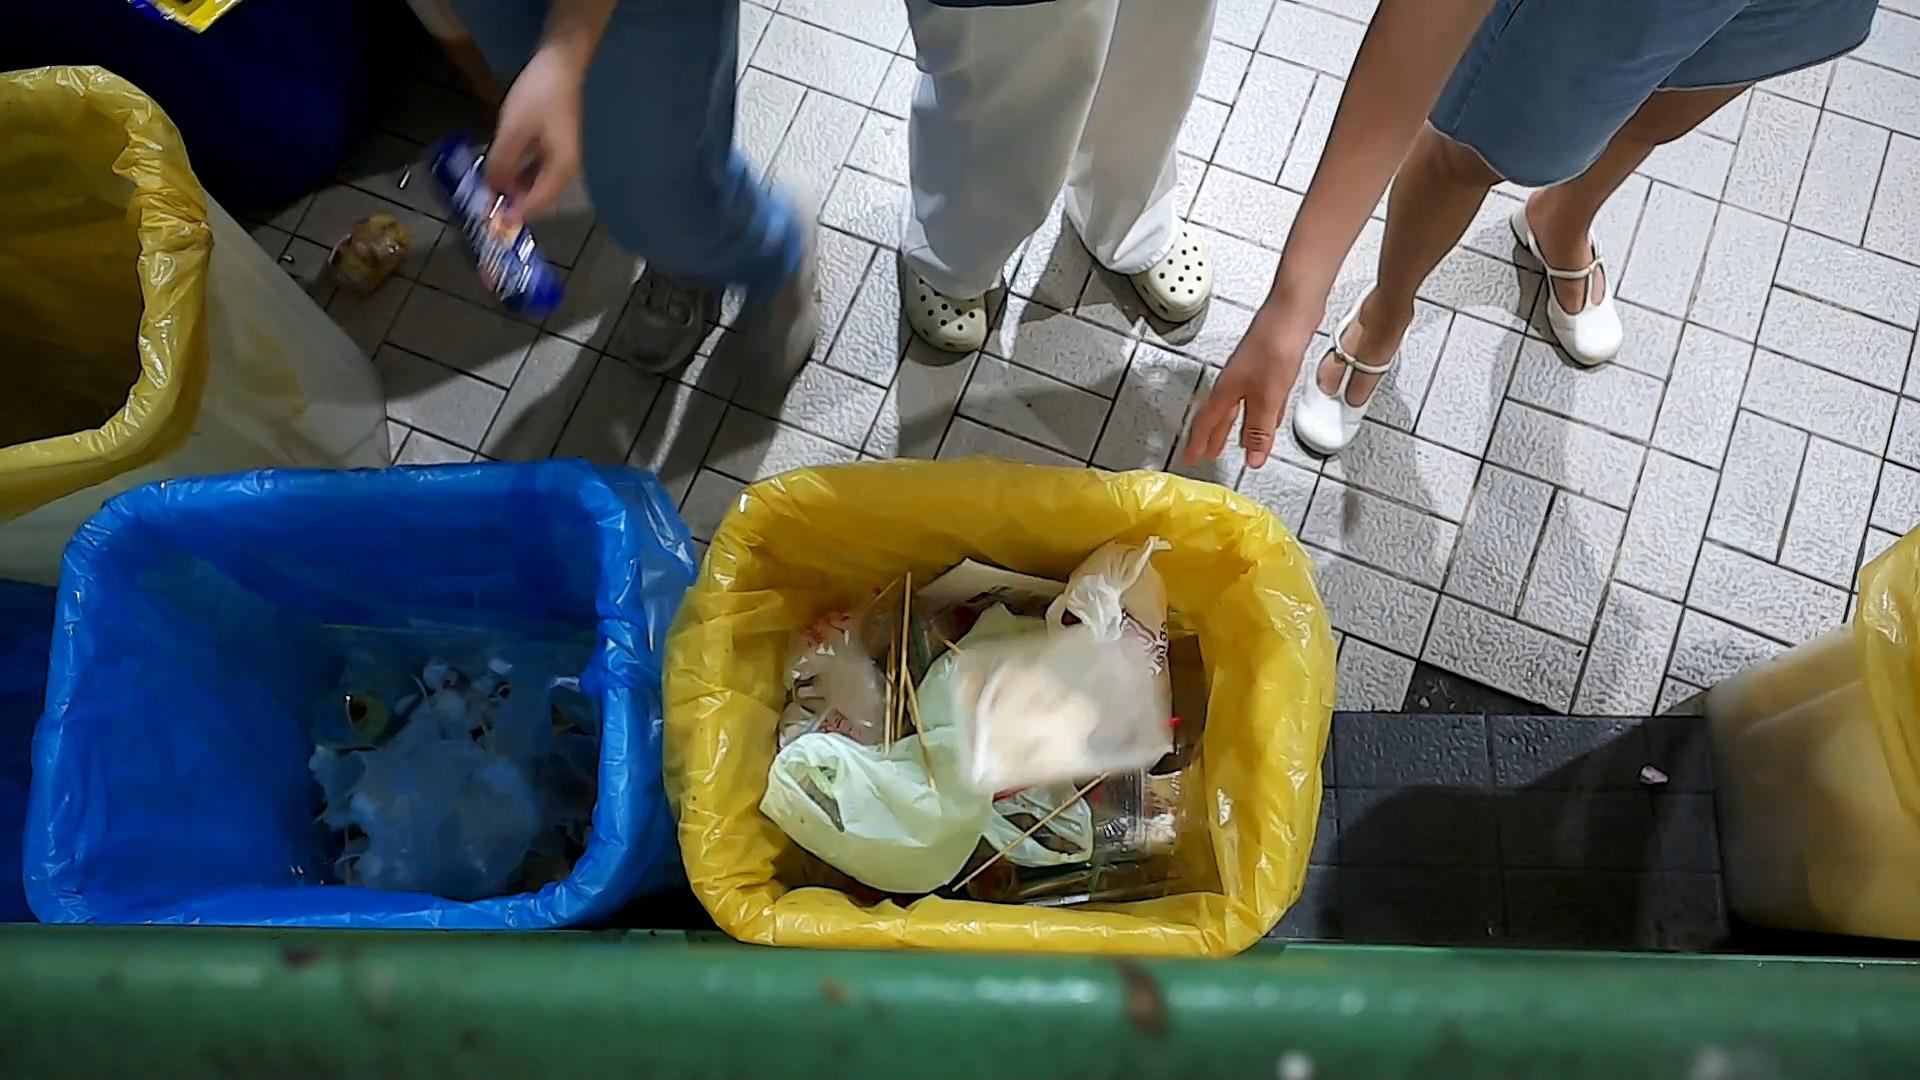dirty food container: (944, 624, 1178, 803)
filled plastic bag: (753, 721, 998, 897), (1040, 530, 1176, 678)
plastic bag: (344, 654, 564, 906), (775, 597, 885, 748)
plastic cup: (302, 654, 431, 757)
snack packaging: (418, 128, 571, 328)
sticks: (949, 769, 1114, 895), (305, 753, 398, 831), (905, 663, 940, 794), (895, 570, 914, 742), (465, 692, 500, 762), (882, 634, 894, 757)
